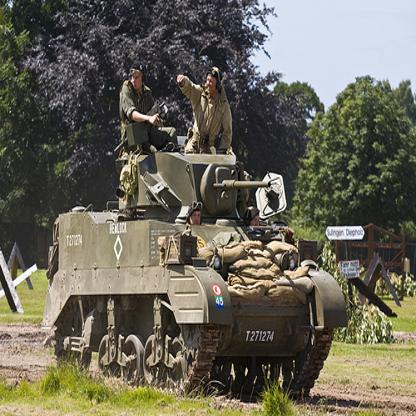Tank: (27, 137, 360, 406)
